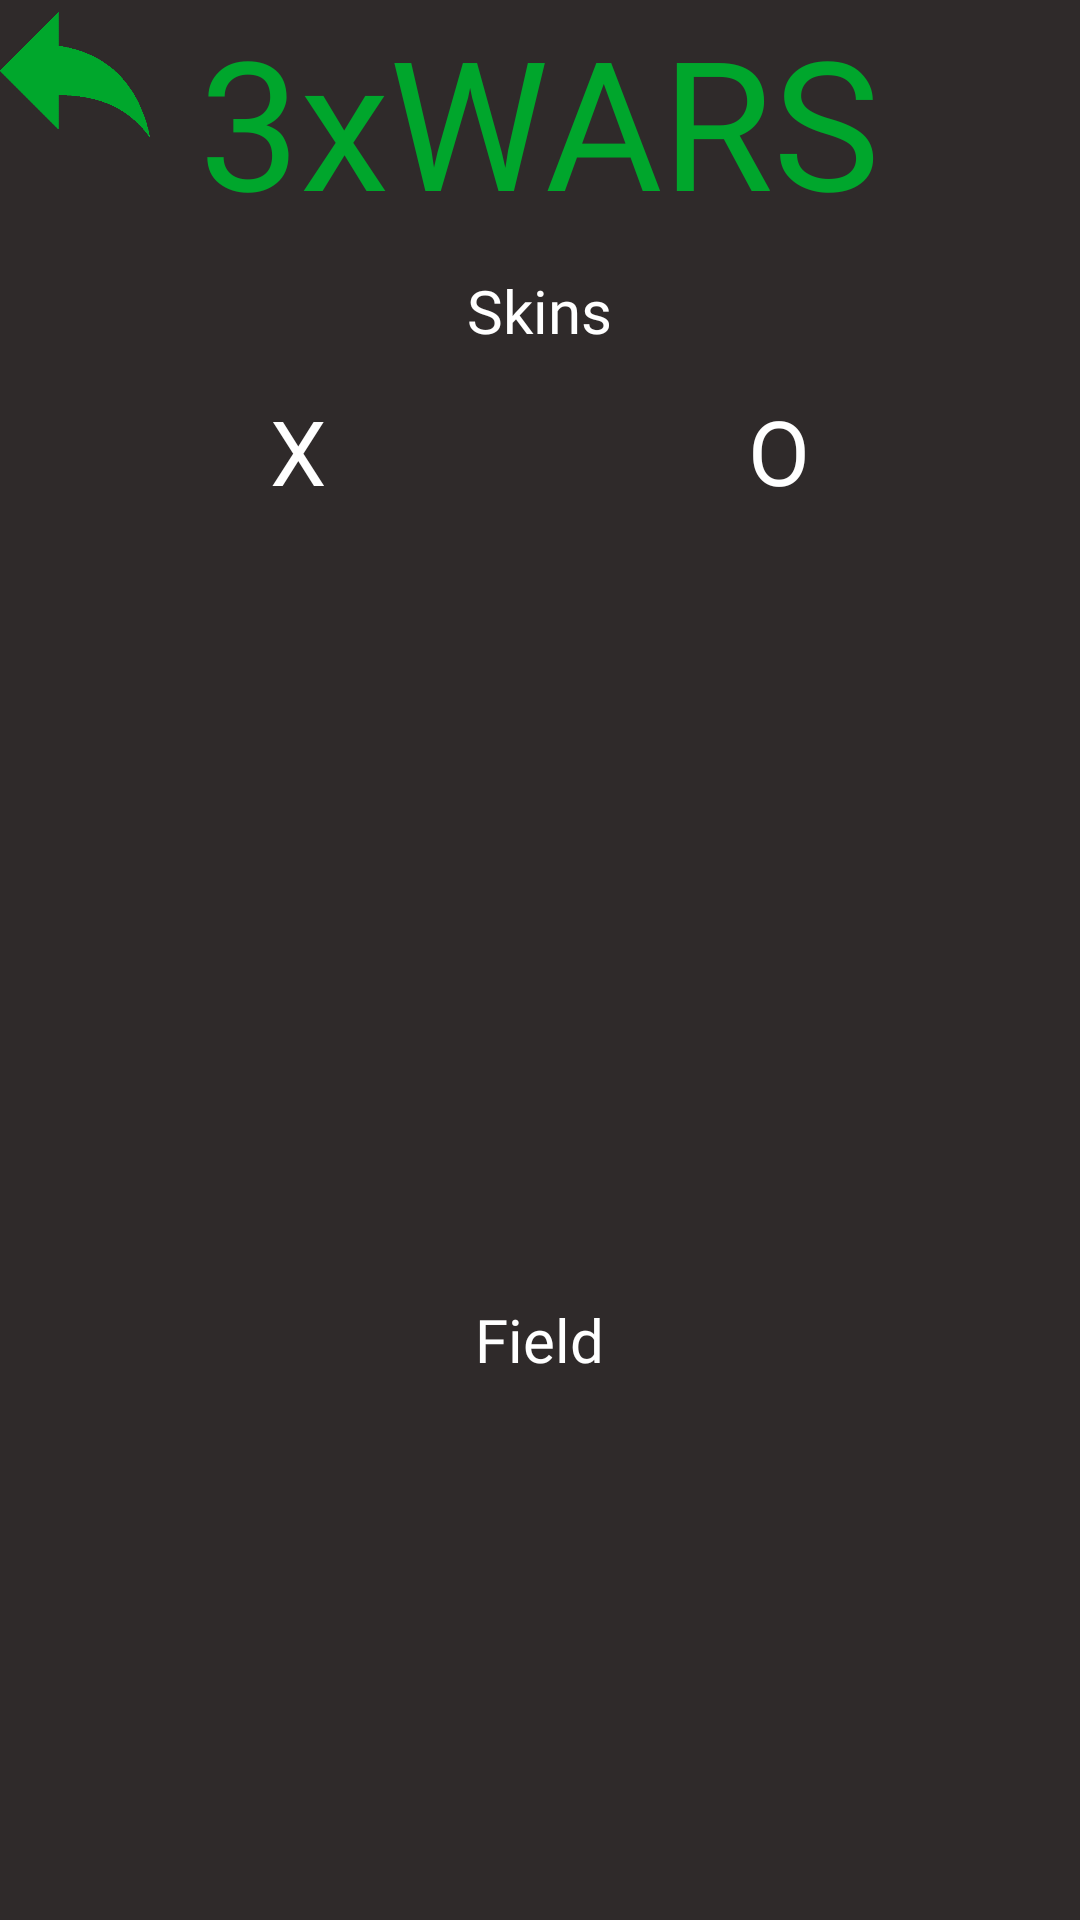

Screen size 1080x1920. Icon name, then its box in pixels as bbox=[x1, y1, x2, y2]:
flecha: bbox=[0, 12, 150, 137]
